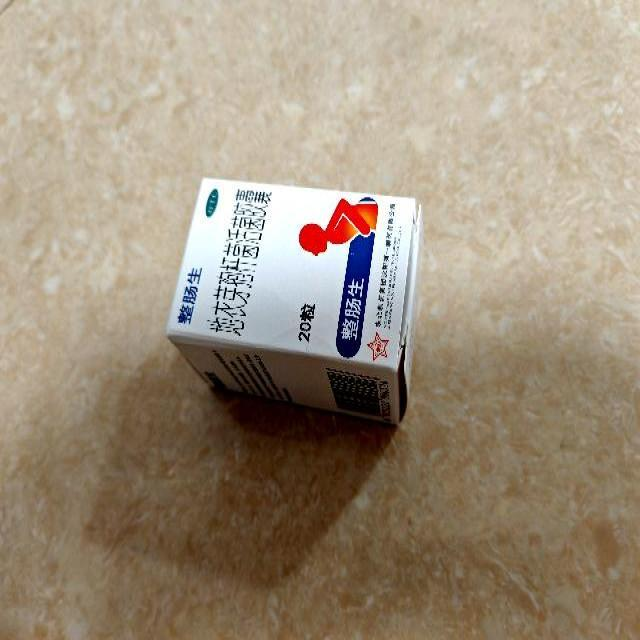box: (166, 178, 420, 424)
